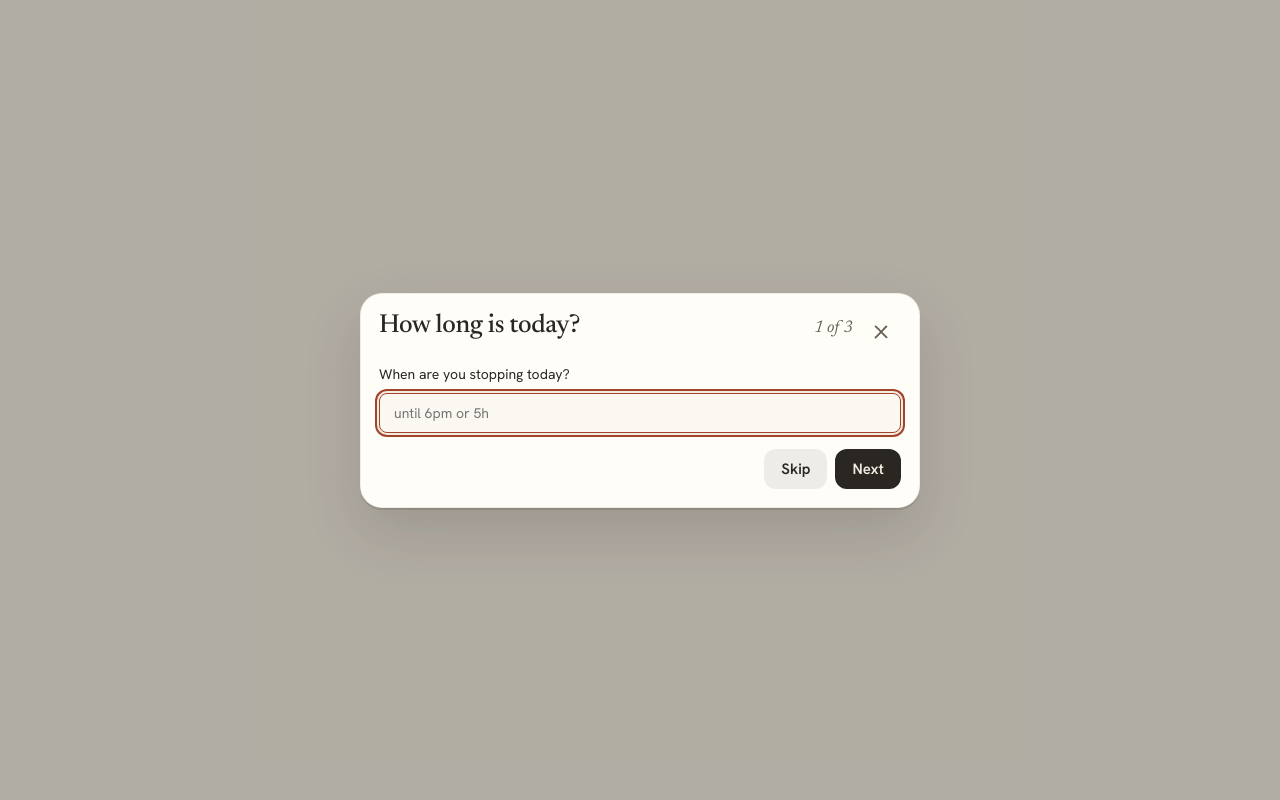
Test case: <PlanRitual> under Field notes › drops the line above the day's rows
Click the button "Next" at (868, 468), box [835,448,901,488]
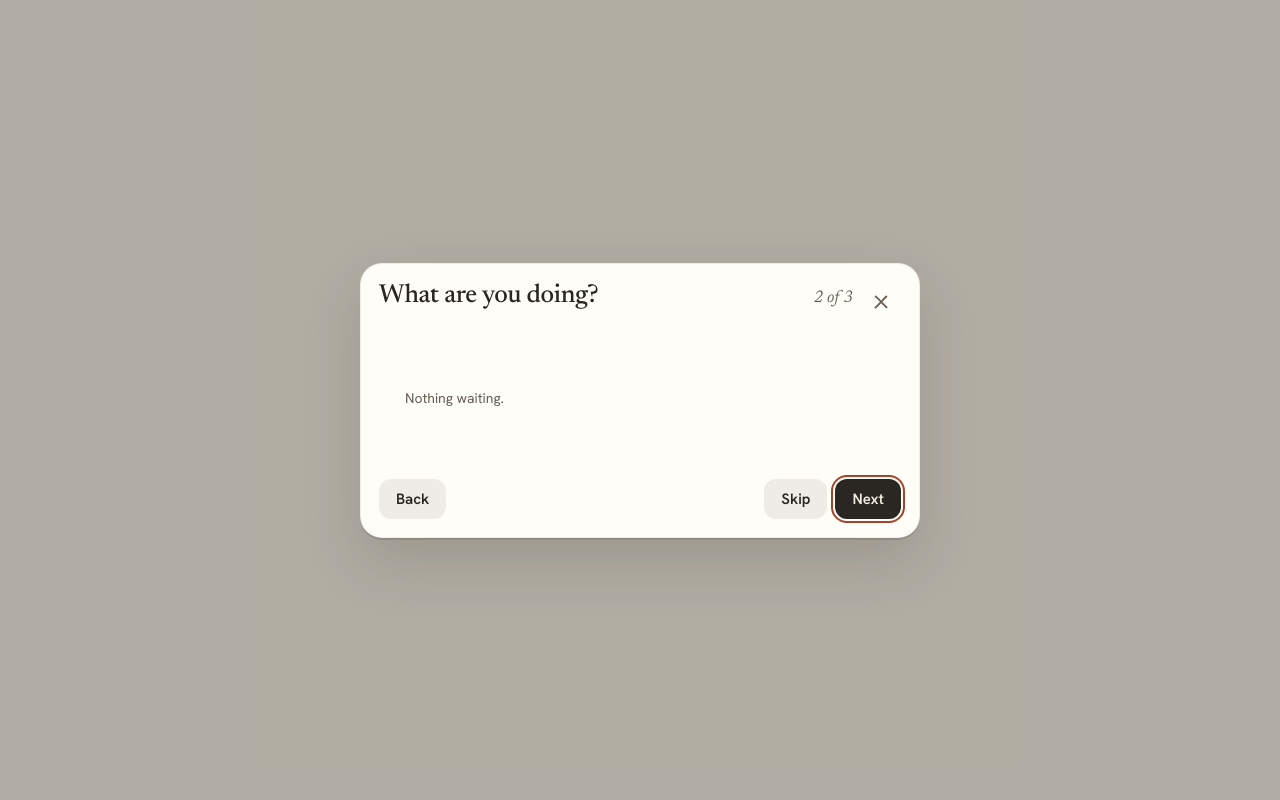
Click the button "Next" at (868, 498), box [835,478,901,518]
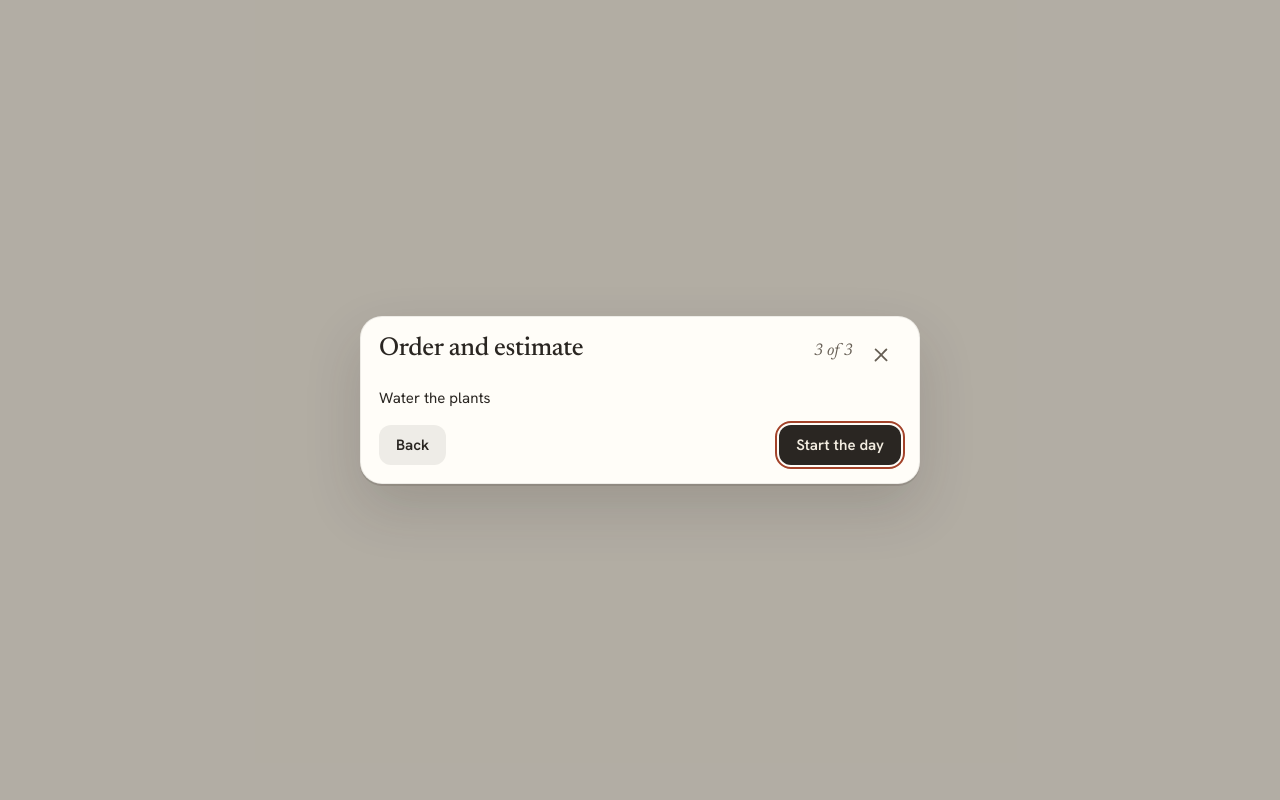
Now the list item "Water the plants" is shown, box [379,388,491,408]
